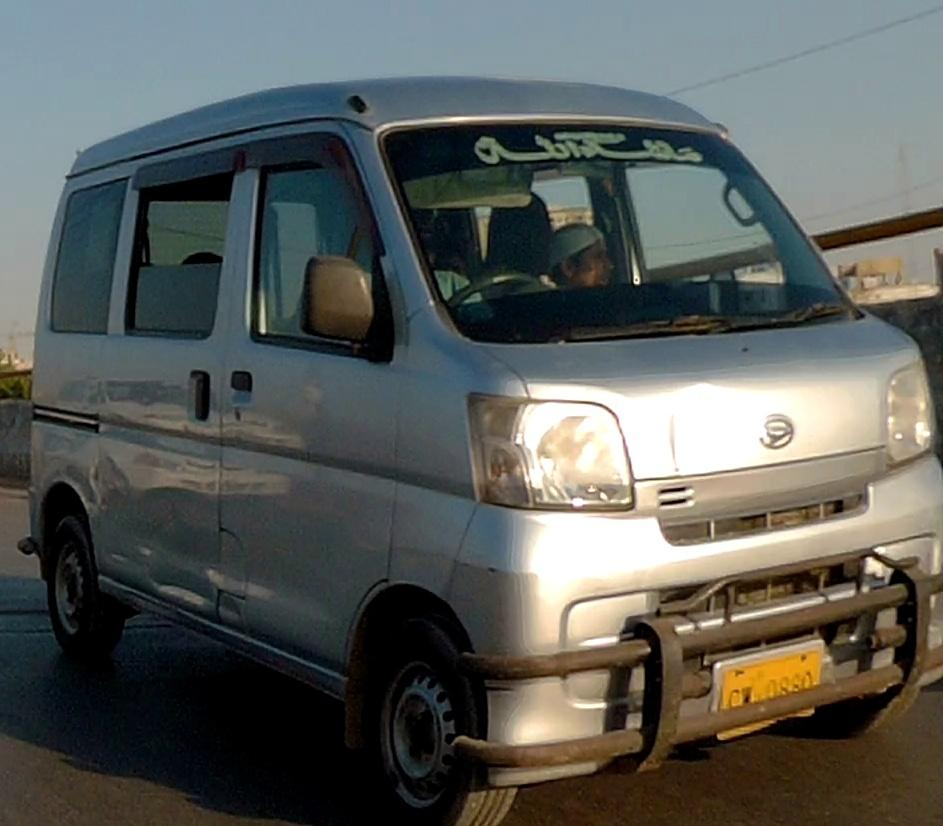car: (9, 70, 943, 826)
